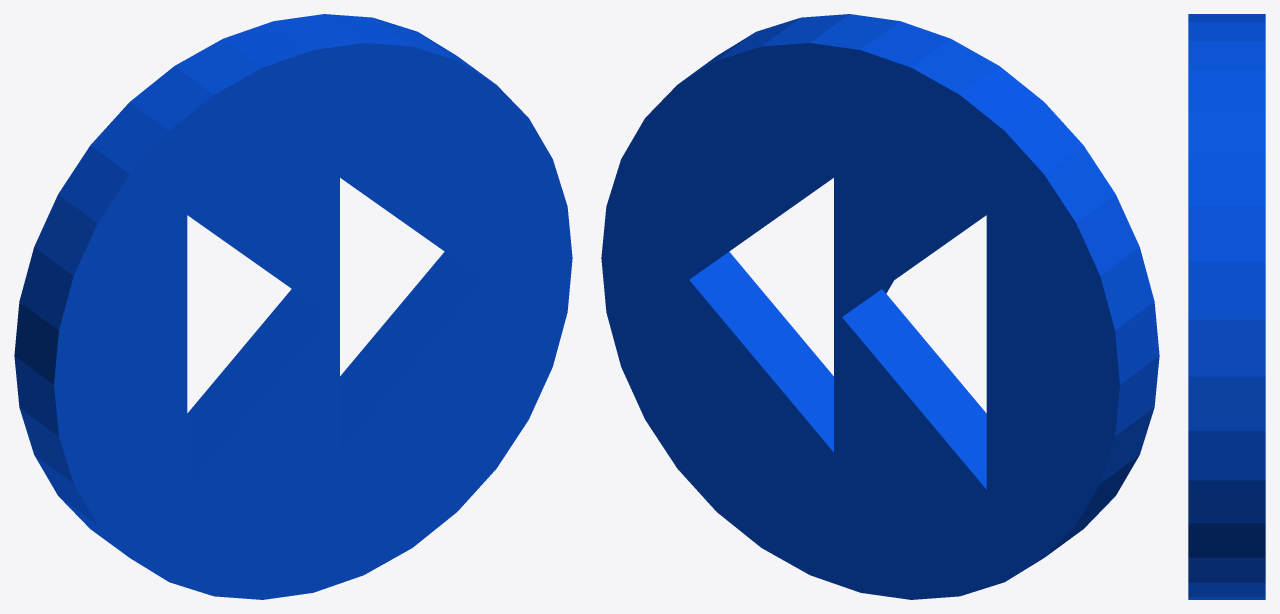
File: spd up.fbx
3 views of the same model, side by side, from view 1: azimuth 30°, elevation 25°; view 2: azimuth 150°, elevation 25°; view 3: azimuth 270°, elevation 25° (orthographic). The views are drawn at different scales.
Visible parts, largest first — view 1: Cylinder; view 2: Cylinder; view 3: Cylinder.
Part boxes in pixels (bbox=[...]): Cylinder: bbox=[14, 14, 572, 599]; Cylinder: bbox=[601, 14, 1159, 599]; Cylinder: bbox=[1188, 14, 1265, 599].
Size of the model in its own units: 92.04 by 92.04 by 12.17.
